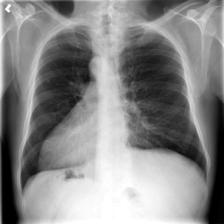normal: (17, 21, 210, 213)
